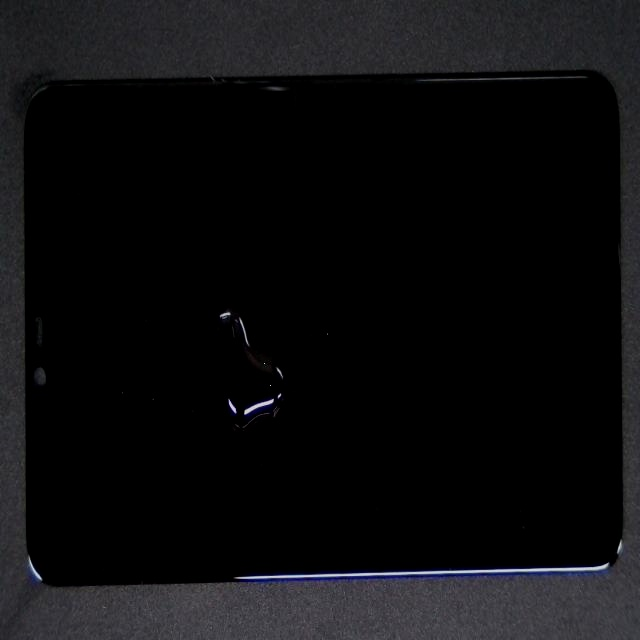oil: (116, 124, 338, 503)
